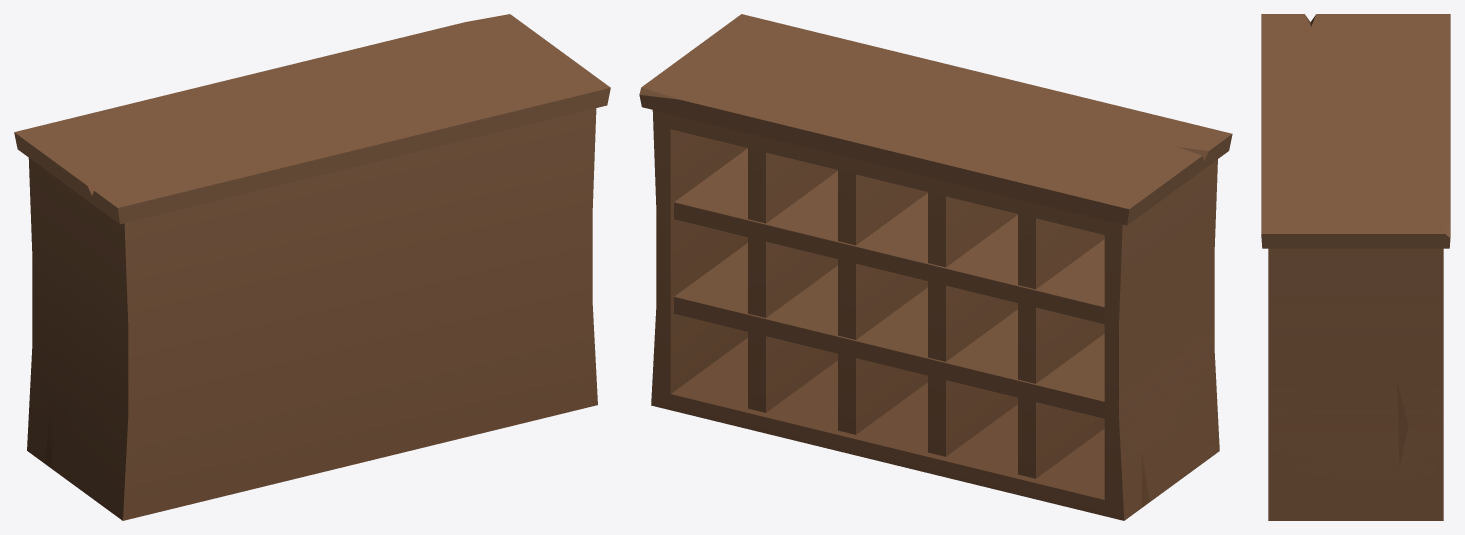
Rendered from ShelfUnit3.fbx.
The picture shows the model from 3 angles, left to right: view 1: azimuth 30°, elevation 25°; view 2: azimuth 150°, elevation 25°; view 3: azimuth 270°, elevation 25°; orthographic projection. The views are drawn at different scales.
Visible parts, largest first — view 1: ShelfUnit3; view 2: ShelfUnit3; view 3: ShelfUnit3.
Part boxes in pixels (left/top/right/bottom): ShelfUnit3: left=14, top=14, right=610, bottom=520; ShelfUnit3: left=639, top=14, right=1232, bottom=520; ShelfUnit3: left=1261, top=14, right=1450, bottom=520.
Bounding box in the file's own units: 138 × 85.13 × 50.3.
